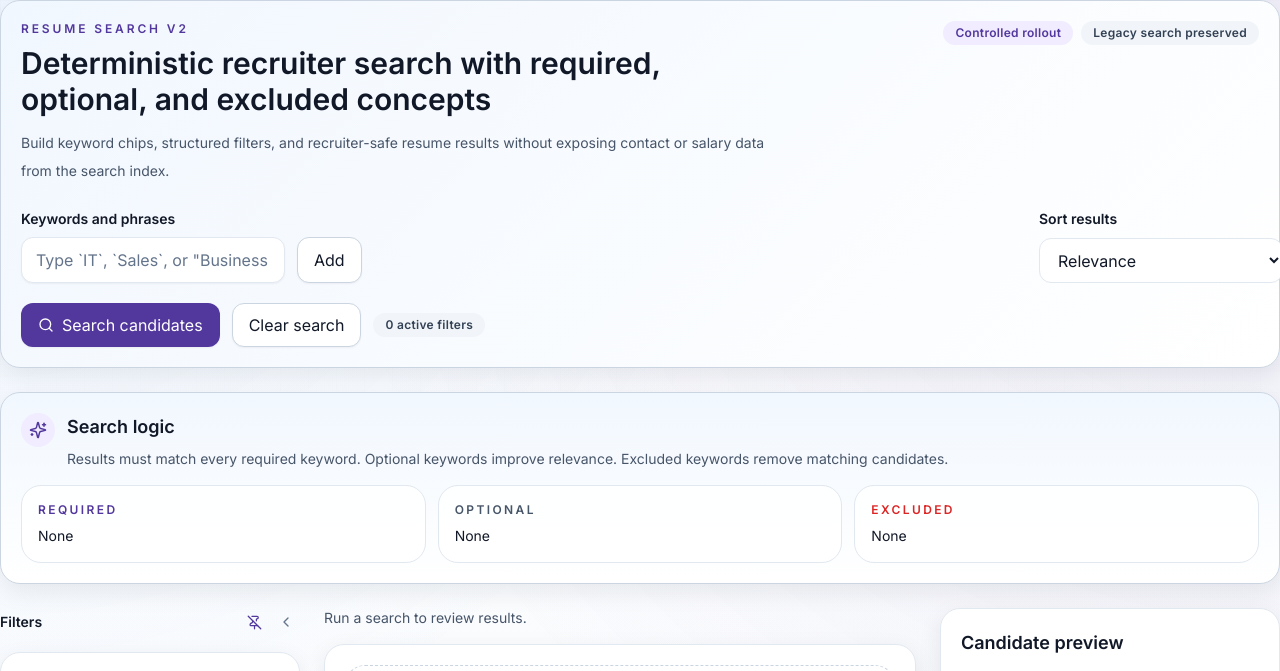
Test: RecruiterResumeSearchV2Page › creates optional chips, toggles MUST, and excludes a phrase with keyboard-safe controls
The image size is (1280, 671).
Replace the text in the field with placeholder "Type `IT`, `Sales`" with "IT, Sales, \"Business HR Partner\"" at (153, 260), box [21,237,285,283]
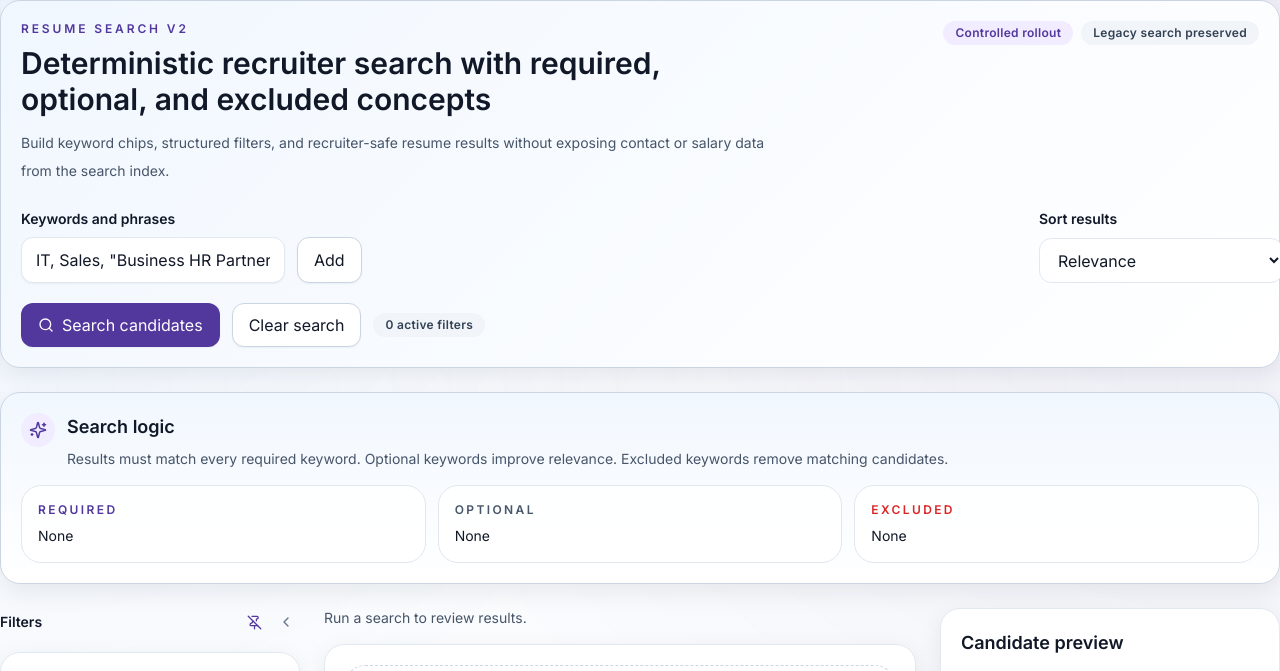
Press Enter in the field with placeholder "Type `IT`, `Sales`", box [21,237,285,283]
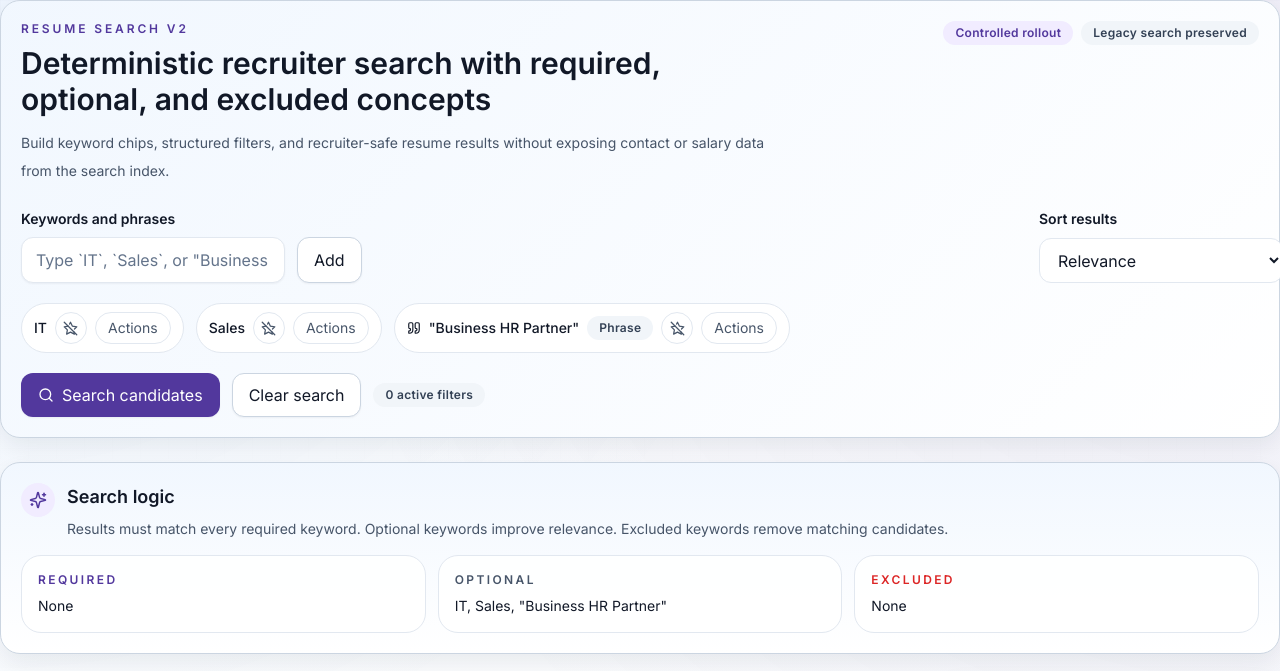
Now the text "IT" is shown, box [34,318,47,338]
Now the text "Sales" is shown, box [209,318,245,338]
Now the text "\"Business HR Partner\"" is shown, box [429,318,579,338]
Press Enter in the 1st button named "Optional keyword", box [55,312,87,344]
Click the 1st button named "Optional keyword" at (71, 328), box [55,312,87,344]
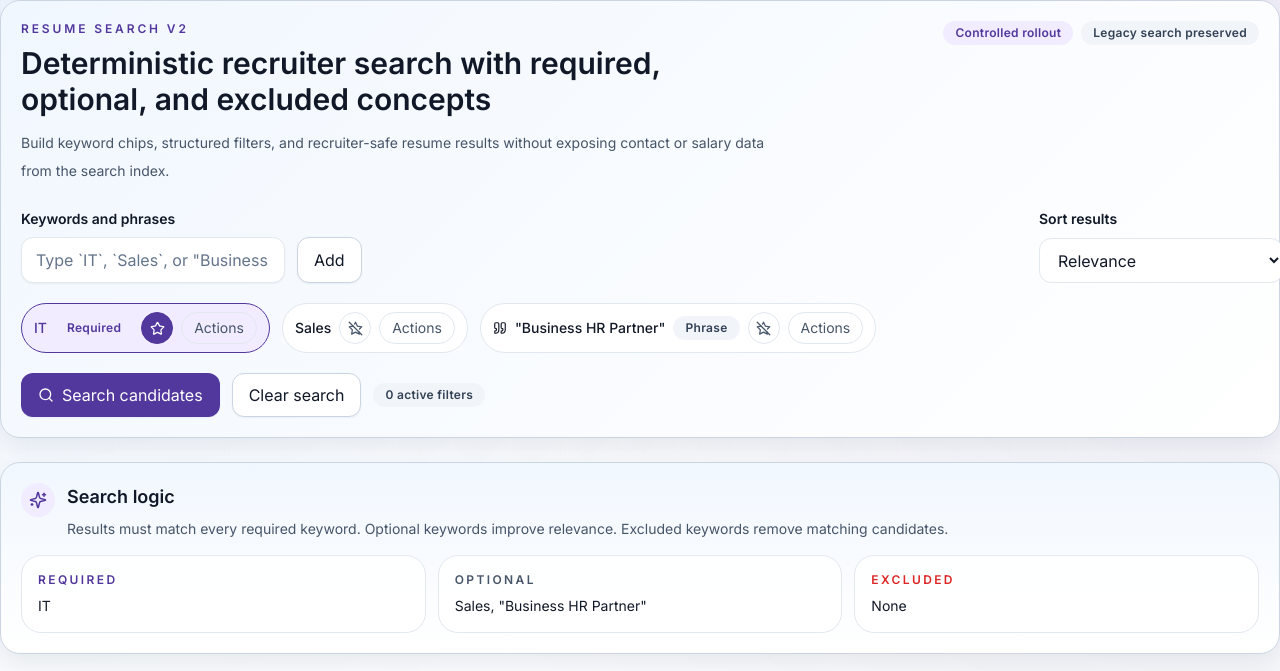
Now the text "Required" below "Keywords and phrases" is shown, box [67,320,121,335]
Click the 3rd button "Actions" at (825, 328), box [788,312,863,344]
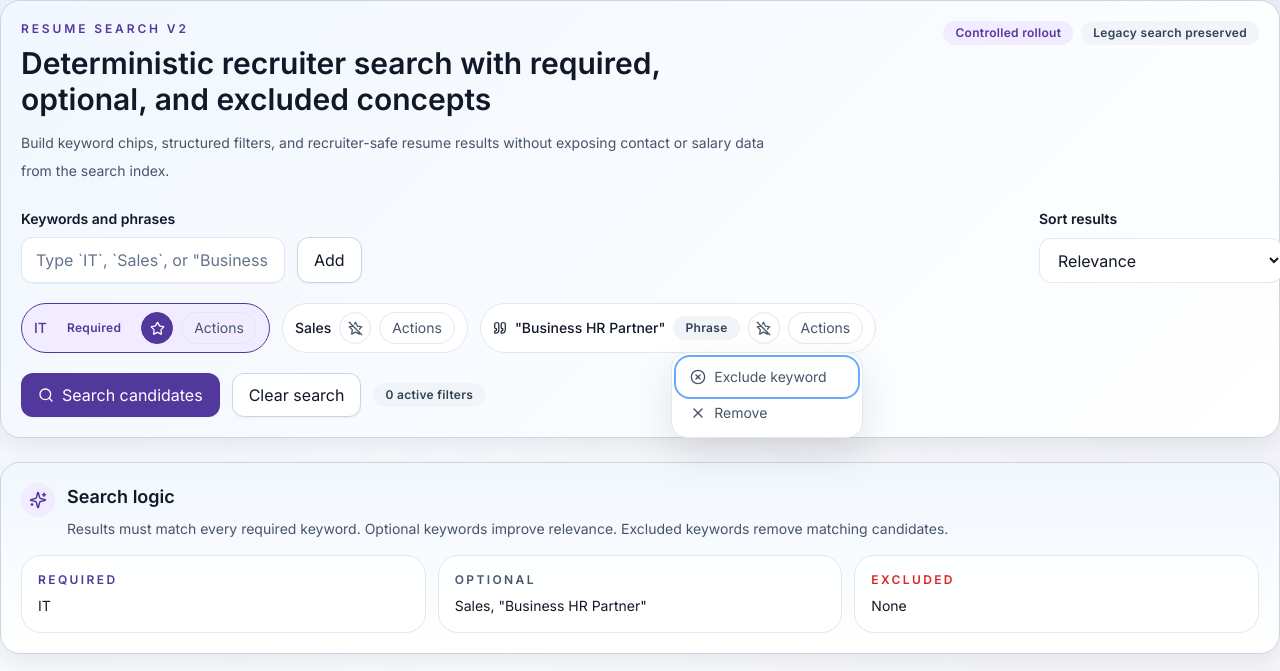
Click the menu item "Exclude keyword" at (767, 377), box [678,359,856,395]
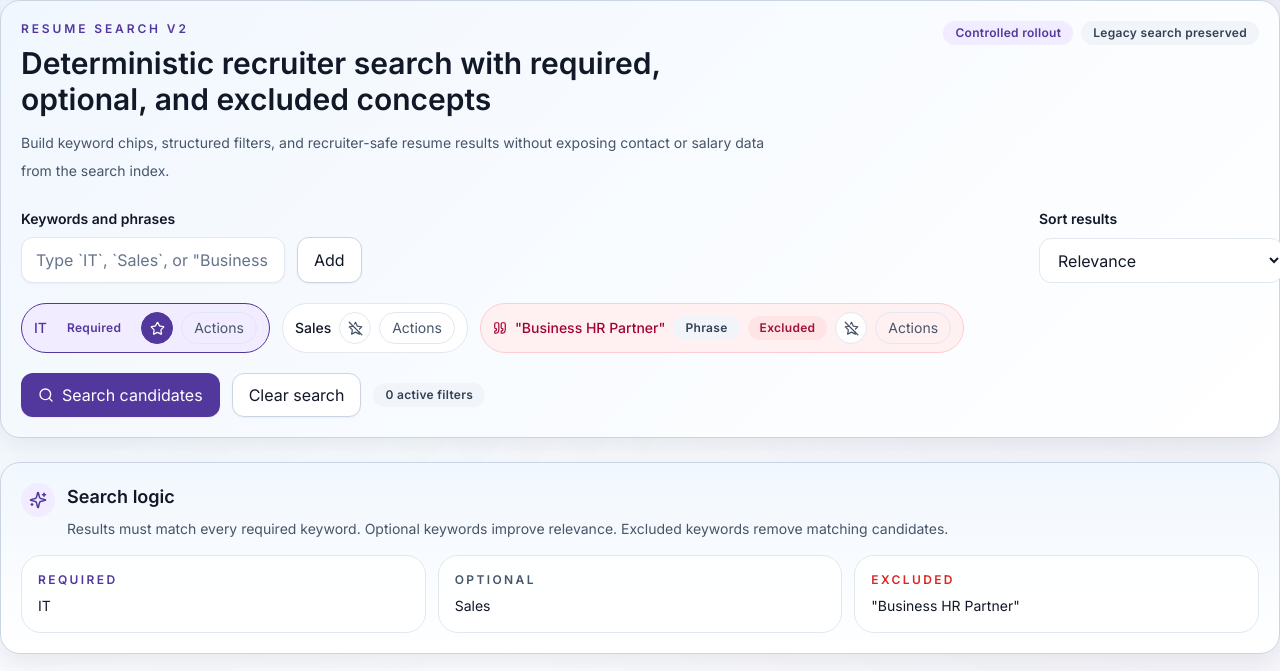
Now the text "Excluded" below "Sort results" is shown, box [760,320,815,335]
